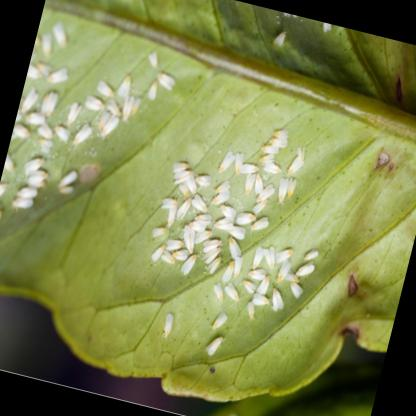whitefly: (180, 254, 197, 276), (256, 184, 275, 203), (177, 197, 192, 221), (287, 157, 305, 176), (253, 246, 266, 270), (212, 312, 227, 332), (224, 282, 239, 302), (229, 238, 242, 260), (192, 194, 207, 213), (278, 177, 288, 204), (272, 289, 284, 311), (236, 212, 255, 225), (245, 173, 256, 195), (251, 217, 268, 231), (222, 204, 236, 221), (264, 246, 274, 269), (207, 258, 220, 275), (213, 282, 223, 301)
